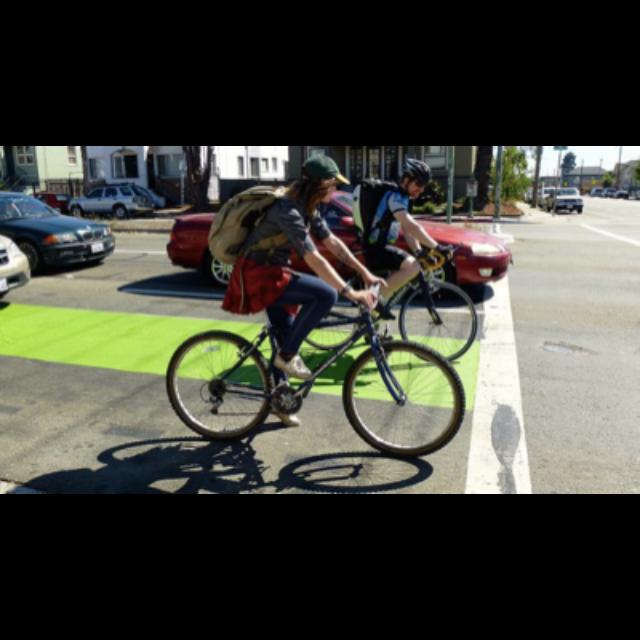With Helmet: (395, 154, 433, 202)
Without Helmet: (297, 148, 348, 208)
